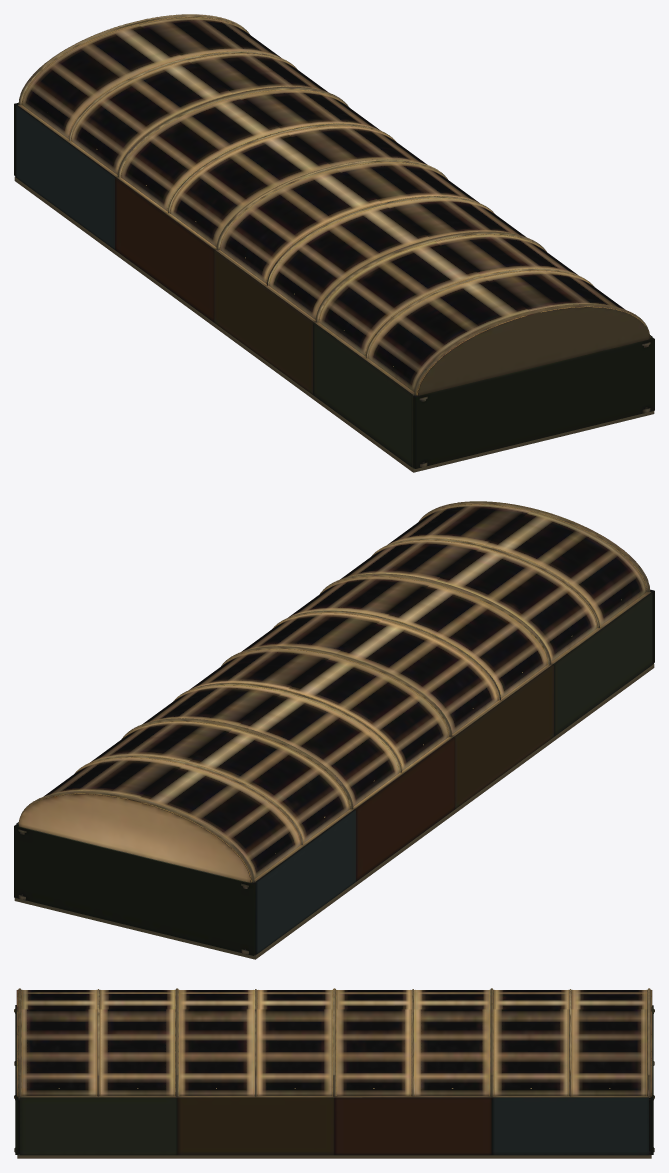
Rendered from vivaldi-four-seasons.glb.
The picture shows the model from 3 angles, top to bottom: view 1: azimuth 30°, elevation 25°; view 2: azimuth 150°, elevation 25°; view 3: azimuth 270°, elevation 25°; orthographic projection. The views are drawn at different scales.
Visible parts, largest first — view 1: Architecture · Ochre lime plaster, Architecture · Deep olive gallery velvet, Architecture · Pale limestone mouldings, Architecture · Spring gallery silk, Architecture · Winter gallery silk, Architecture · Autumn gallery silk, Architecture · Summer gallery silk, Architecture · Warm carved travertine, Architecture · Antique gilded bronze; view 2: Architecture · Ochre lime plaster, Architecture · Deep olive gallery velvet, Architecture · Pale limestone mouldings, Architecture · Winter gallery silk, Architecture · Autumn gallery silk, Architecture · Summer gallery silk, Architecture · Spring gallery silk, Architecture · Warm carved travertine, Architecture · Antique gilded bronze; view 3: Architecture · Ochre lime plaster, Architecture · Autumn gallery silk, Architecture · Spring gallery silk, Architecture · Summer gallery silk, Architecture · Winter gallery silk, Architecture · Pale limestone mouldings, Architecture · Warm carved travertine, Architecture · Antique gilded bronze, Architecture · Deep olive gallery velvet.
Boxes of the visible parts, box(x1,y1,x2,y2) form: Architecture · Ochre lime plaster: box(19, 17, 649, 395); Architecture · Deep olive gallery velvet: box(14, 103, 654, 468); Architecture · Pale limestone mouldings: box(17, 14, 651, 467); Architecture · Spring gallery silk: box(313, 323, 652, 466); Architecture · Winter gallery silk: box(16, 105, 115, 249); Architecture · Autumn gallery silk: box(115, 178, 214, 321); Architecture · Summer gallery silk: box(214, 250, 313, 394); Architecture · Warm carved travertine: box(14, 176, 654, 472); Architecture · Antique gilded bronze: box(22, 17, 645, 395); Architecture · Ochre lime plaster: box(19, 504, 649, 882); Architecture · Deep olive gallery velvet: box(14, 589, 654, 955); Architecture · Pale limestone mouldings: box(17, 501, 651, 954); Architecture · Winter gallery silk: box(16, 810, 355, 953); Architecture · Autumn gallery silk: box(355, 737, 454, 881); Architecture · Summer gallery silk: box(454, 665, 553, 808); Architecture · Spring gallery silk: box(553, 592, 652, 736); Architecture · Warm carved travertine: box(14, 663, 654, 959); Architecture · Antique gilded bronze: box(23, 504, 646, 882); Architecture · Ochre lime plaster: box(16, 990, 652, 1096); Architecture · Autumn gallery silk: box(334, 1097, 491, 1155); Architecture · Spring gallery silk: box(20, 1097, 177, 1155); Architecture · Summer gallery silk: box(177, 1097, 334, 1155); Architecture · Winter gallery silk: box(491, 1097, 648, 1155); Architecture · Pale limestone mouldings: box(14, 988, 654, 1153); Architecture · Warm carved travertine: box(17, 1098, 651, 1158); Architecture · Antique gilded bronze: box(17, 990, 651, 1096); Architecture · Deep olive gallery velvet: box(15, 1005, 653, 1154).
Bounding box in the file's own units: 22.5 × 11.71 × 65.19.
34 materials, 31 textured.
